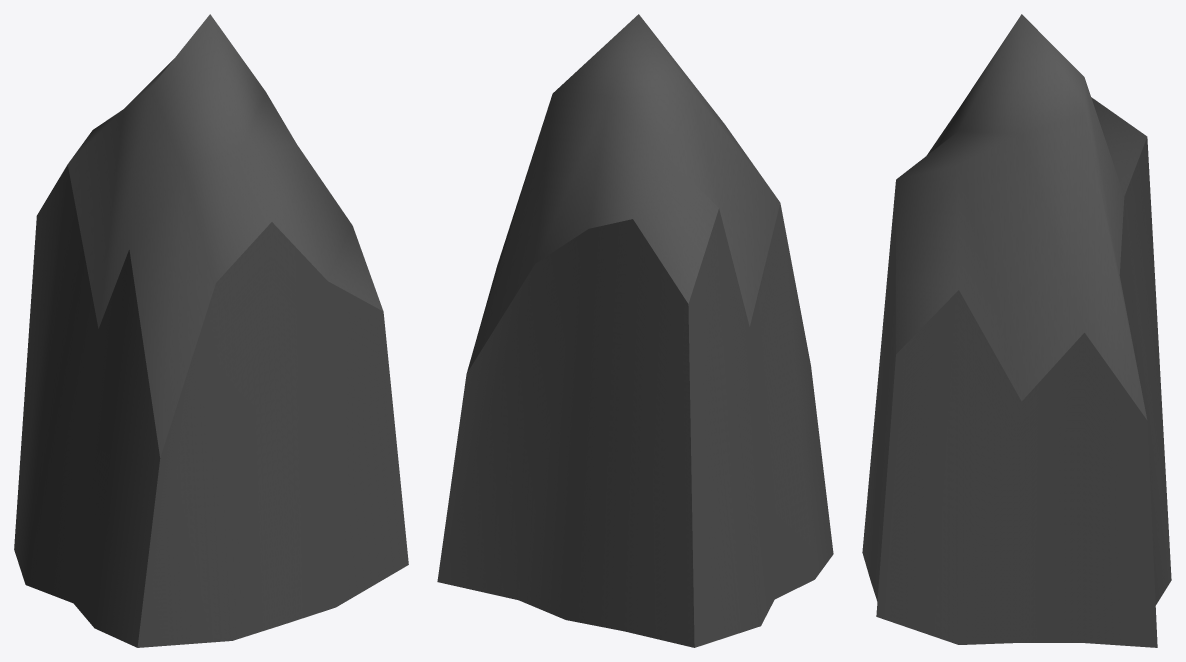
The model's file is Rock2.FBX.
The picture shows the model from 3 angles, left to right: view 1: azimuth 30°, elevation 25°; view 2: azimuth 150°, elevation 25°; view 3: azimuth 270°, elevation 25°; orthographic projection. The views are drawn at different scales.
Visible parts, largest first — view 1: Box001; view 2: Box001; view 3: Box001.
Part boxes in pixels (x1,y1,x2,y2): Box001: [14, 14, 408, 647]; Box001: [437, 14, 833, 647]; Box001: [862, 14, 1171, 647].
Bounding box in the file's own units: 23.67 × 43.4 × 21.47.
1 material, 1 textured.
